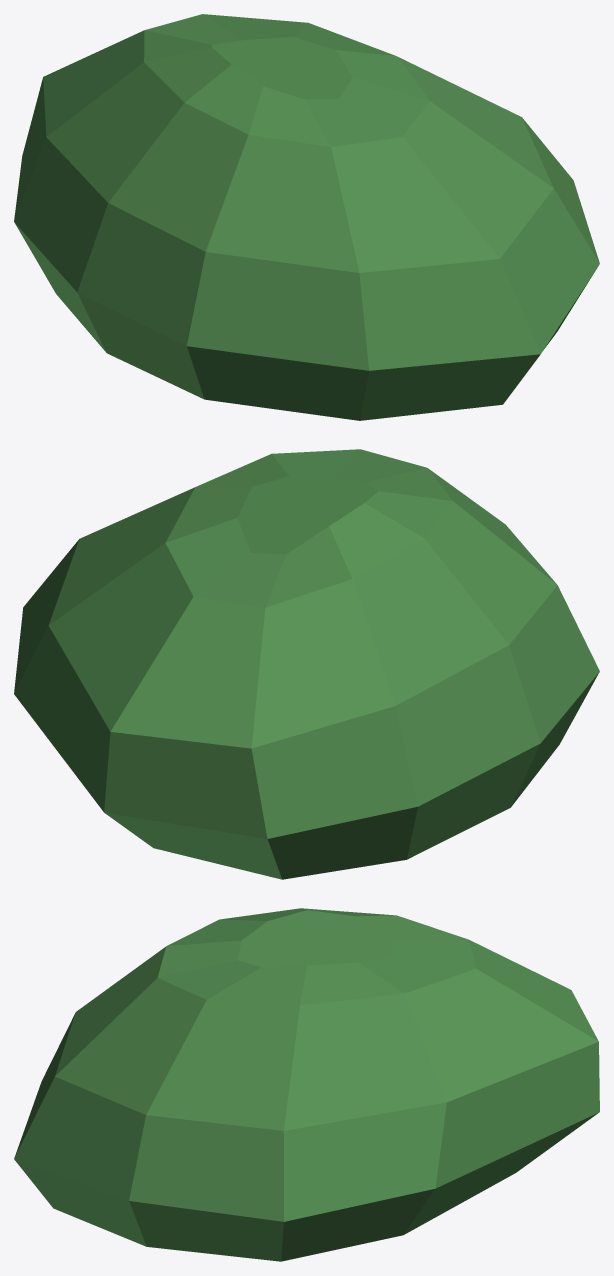
Rendered from Bushes1.fbx.
The picture shows the model from 3 angles, top to bottom: view 1: azimuth 30°, elevation 25°; view 2: azimuth 150°, elevation 25°; view 3: azimuth 270°, elevation 25°; orthographic projection. The views are drawn at different scales.
Parts seen in each view (by area): view 1: pSphere5; view 2: pSphere5; view 3: pSphere5.
Boxes of the visible parts, left/top/right/bottom form: pSphere5: left=14, top=14, right=599, bottom=420; pSphere5: left=14, top=449, right=599, bottom=879; pSphere5: left=14, top=908, right=599, bottom=1261.
Size of the model in its own units: 12.66 by 7.49 by 14.65.
